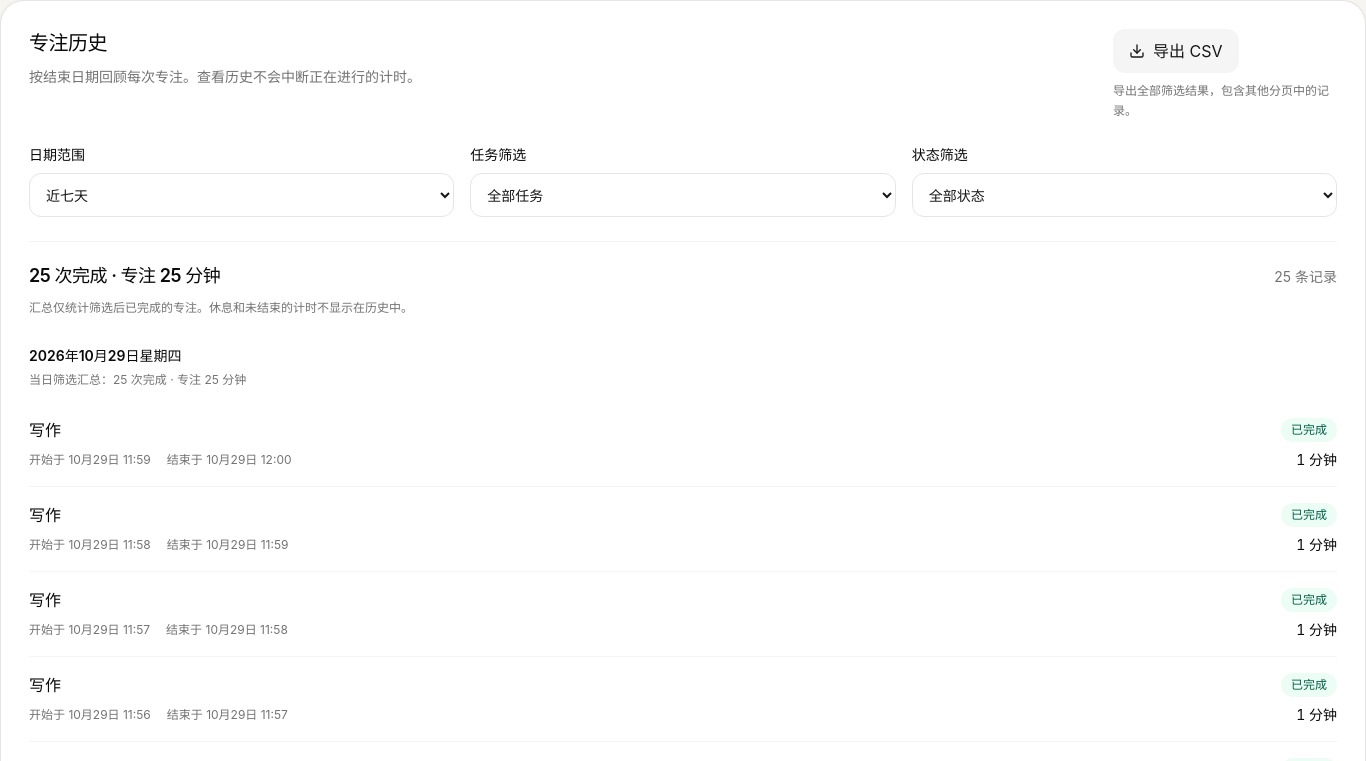
Test: refreshes derived rows after restored or reset data and removes stale task filters
The image size is (1366, 761).
Select "写作" in the dropdown labelled "任务筛选". click: (683,195)
box: [470,173,896,217]
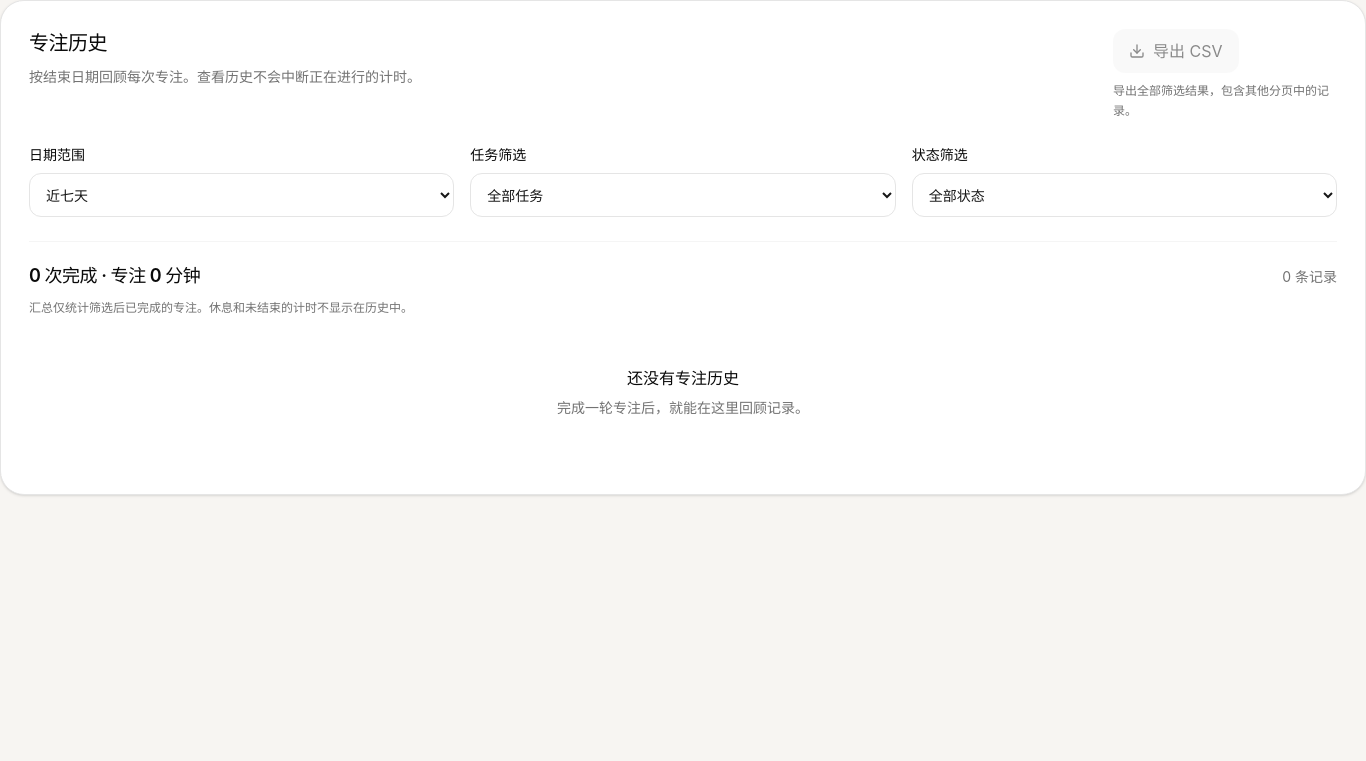
Now the text "还没有专注历史" is shown, box [627,368,739,388]
Now the button "导出 CSV" is disabled, box [1113,29,1238,73]
